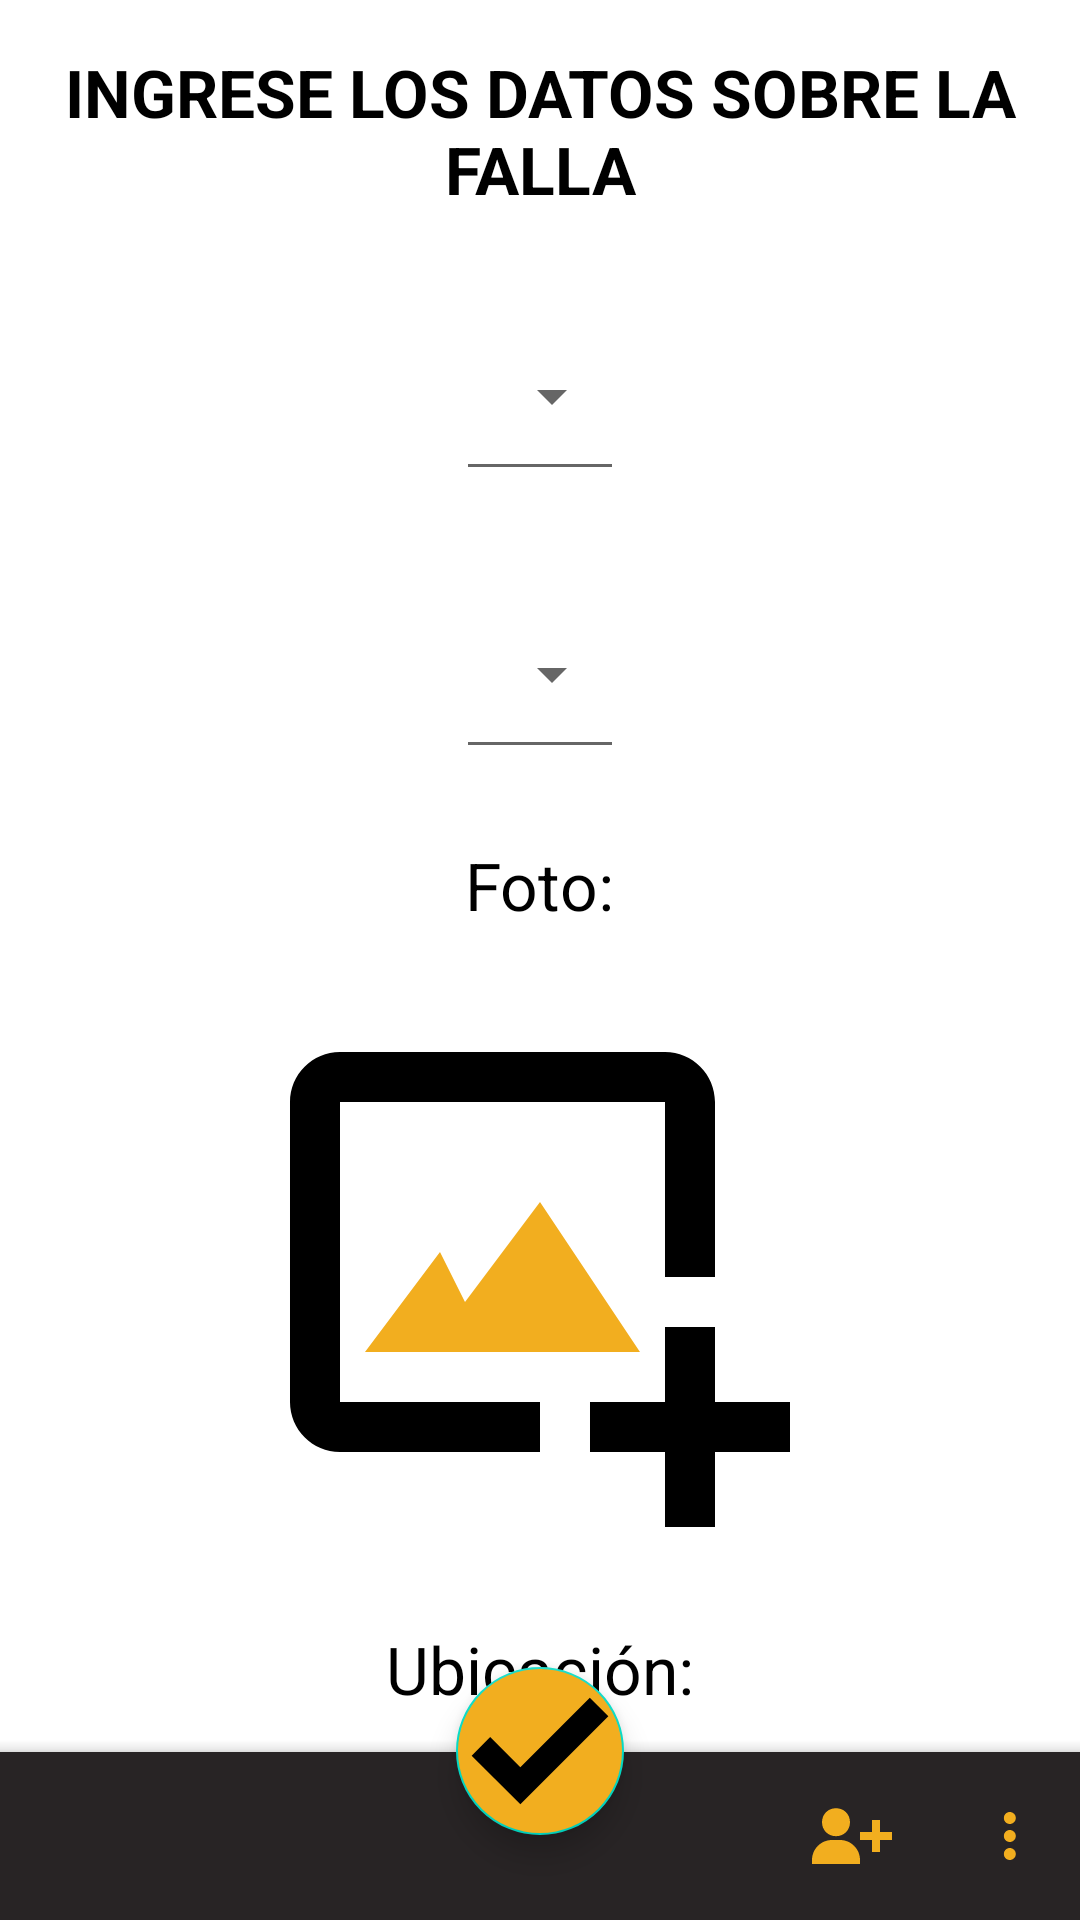

Where to tap for icons on this 1080 × 1920 app screen, as (x,y):
check: (540,1751)
